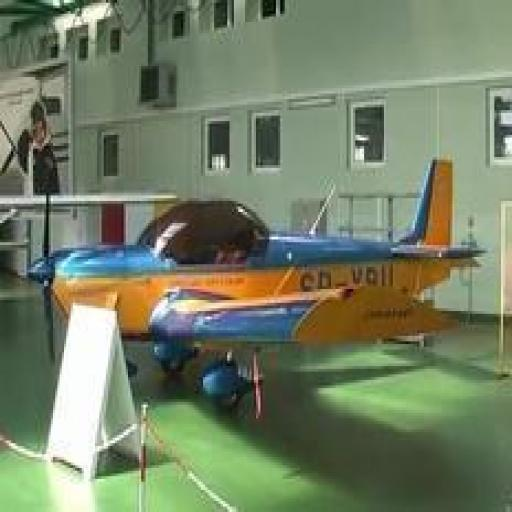aircraft: (24, 154, 490, 424)
